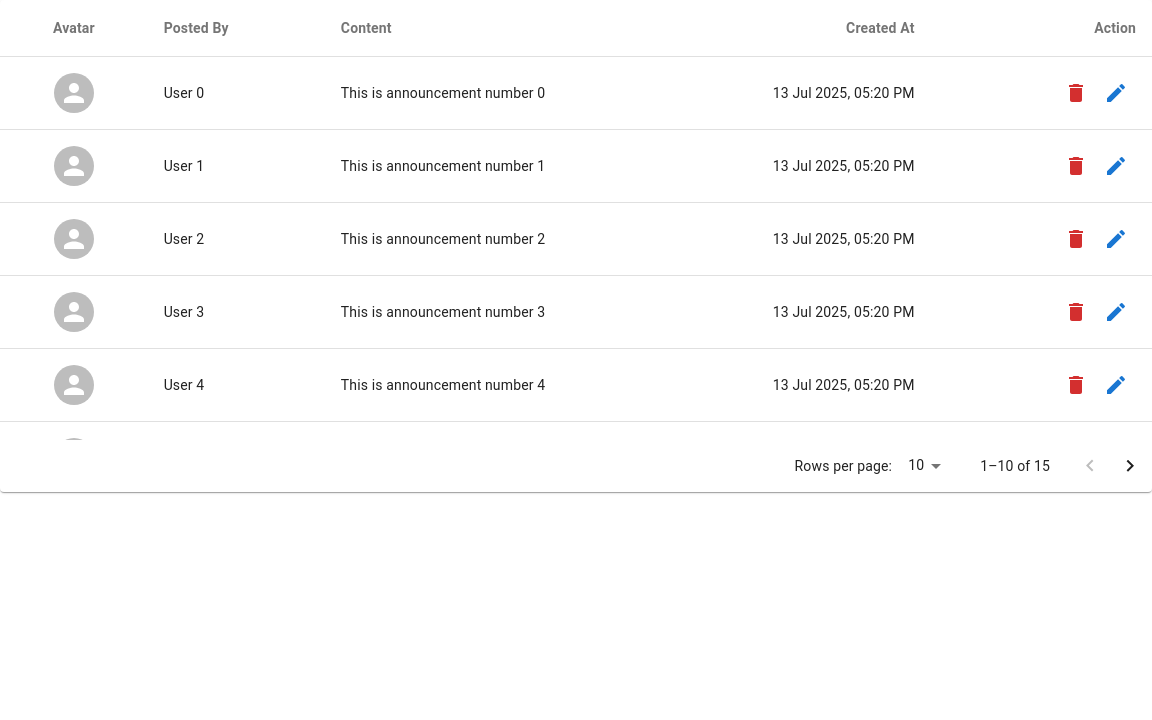
Test case: TableContent Component › opens edit modal when Edit button is clicked
This screenshot has width=1152, height=720.
Click the button named "edit" in the row of "User 0" at (1116, 93), box [1096,73,1136,113]
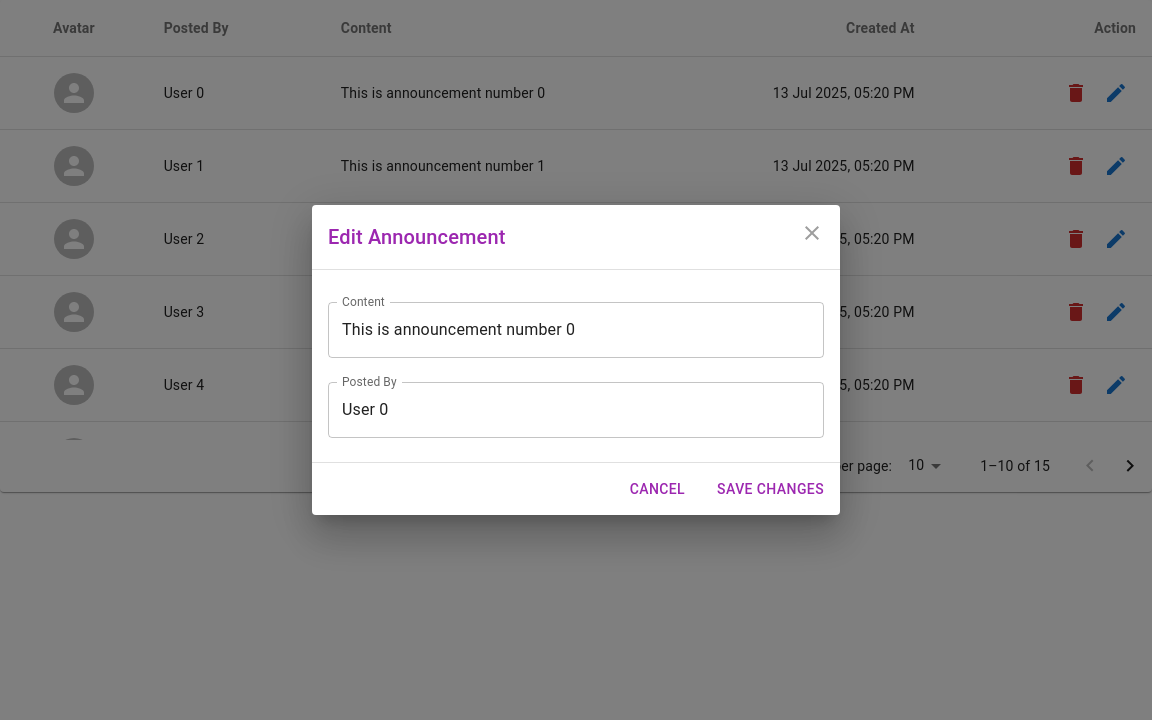
Expected: the heading "Edit Announcement" is shown, [328,225,506,249]
